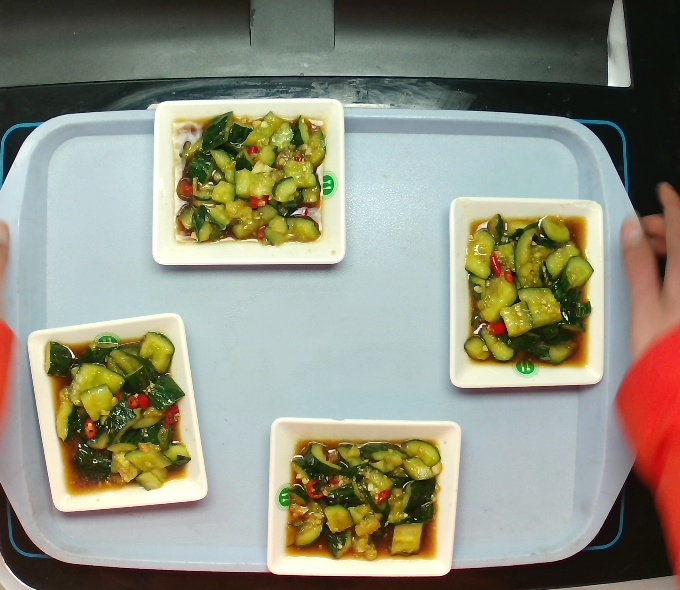wcq-LiangBanHuangGua: (160, 101, 336, 255), (278, 413, 439, 574), (48, 329, 190, 498), (460, 219, 595, 360)
